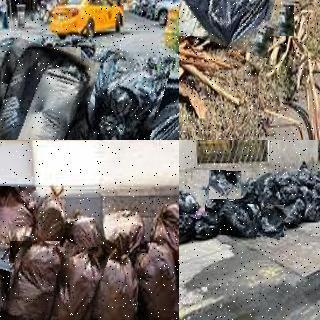Garbage: (0, 42, 91, 140), (179, 0, 304, 47), (89, 59, 161, 140), (4, 238, 66, 320), (48, 244, 103, 320), (133, 241, 179, 320), (135, 59, 179, 140), (96, 252, 139, 320), (28, 179, 71, 247), (0, 186, 35, 263), (101, 204, 149, 257), (62, 210, 103, 262), (149, 200, 179, 269), (217, 202, 263, 238), (255, 204, 286, 239), (209, 171, 241, 199), (179, 187, 206, 217), (191, 216, 218, 240), (179, 210, 194, 240)
